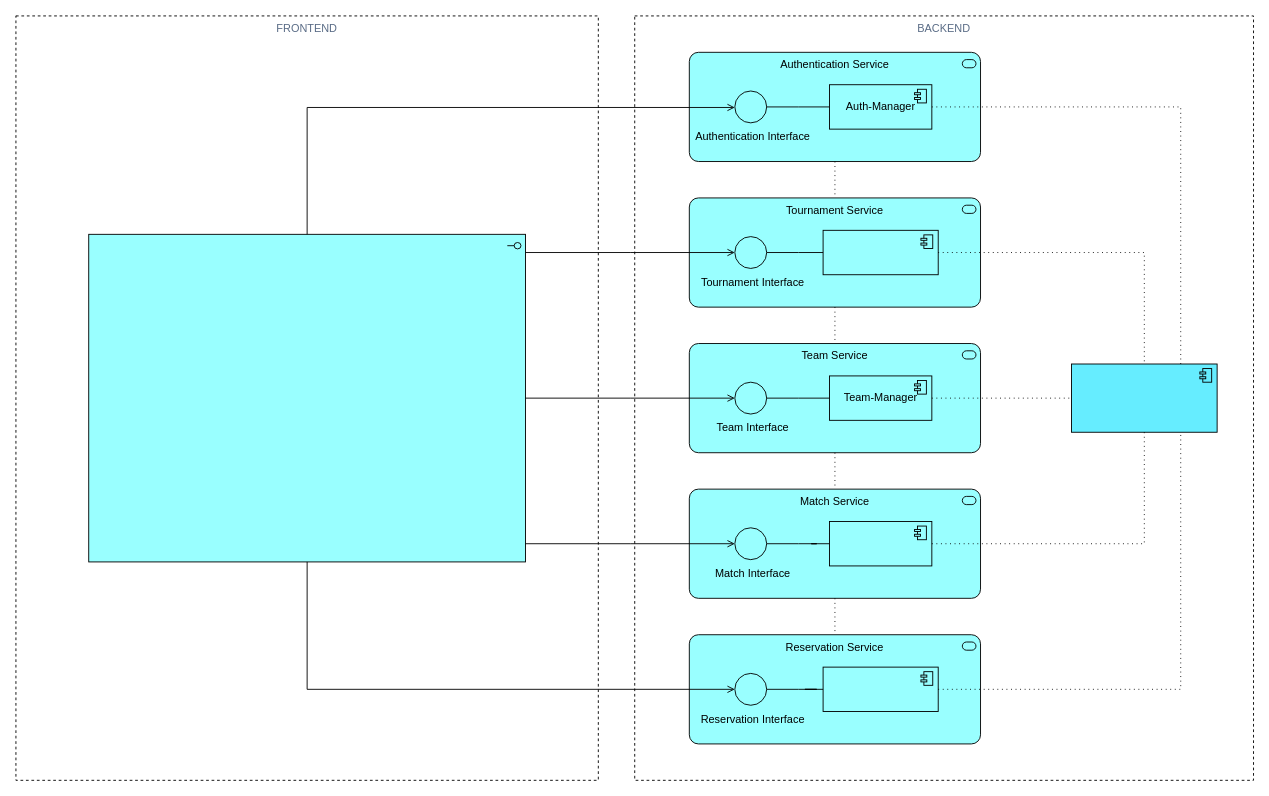
Image size: 1269x796. Some labels were removed from this diagram. The centre of each missing label's shape, as x and y in pixels:
Match-Manager: pixel 880 543
PostgreSQL: pixel 1144 397
Reservation-Manager: pixel 880 689
Tournament-Manager: pixel 880 252
Web Application: pixel 307 397
